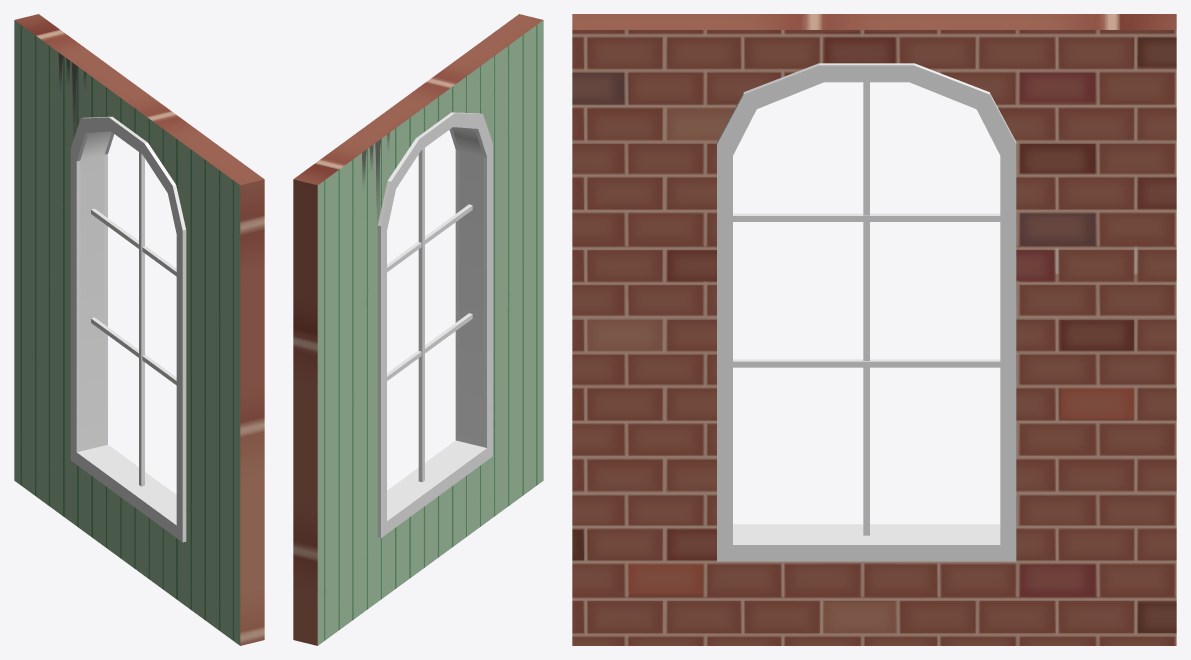
File: bigWindow2.fbx
3 renders of one model, left to right at view 1: azimuth 30°, elevation 25°; view 2: azimuth 150°, elevation 25°; view 3: azimuth 270°, elevation 25°, orthographic. The views are drawn at different scales.
Visible parts, largest first — view 1: polySurface499, polySurface501, polySurface502, polySurface500; view 2: polySurface499, polySurface501, polySurface500, polySurface502; view 3: polySurface499, polySurface501, polySurface502, polySurface500.
Boxes of the visible parts, <box> form: polySurface499: <box>14,14,264,645</box>; polySurface501: <box>139,152,144,486</box>; polySurface502: <box>91,317,176,385</box>; polySurface500: <box>91,208,176,276</box>; polySurface499: <box>293,14,543,645</box>; polySurface501: <box>418,148,424,482</box>; polySurface500: <box>387,204,472,272</box>; polySurface502: <box>387,313,472,380</box>; polySurface499: <box>572,14,1176,645</box>; polySurface501: <box>863,82,869,535</box>; polySurface502: <box>733,359,1000,367</box>; polySurface500: <box>733,213,1000,221</box>.
Size of the model in its own units: 0.3213 by 4.5 by 4.
